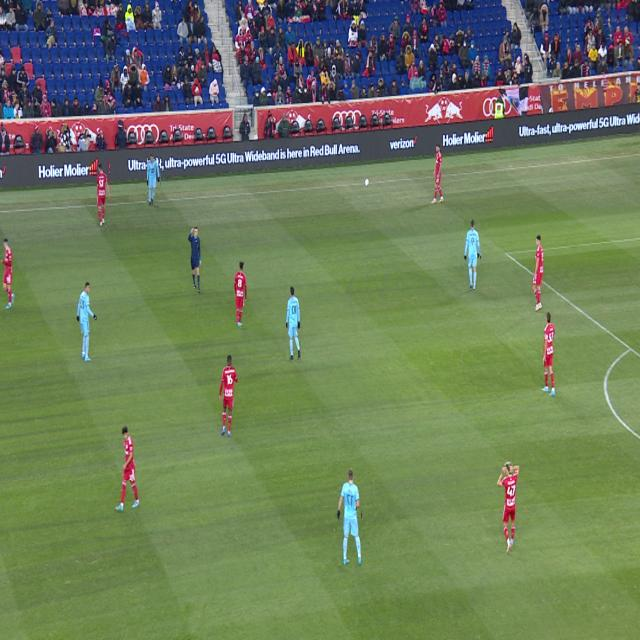football: (365, 179, 369, 187)
player: (338, 468, 361, 566), (497, 462, 520, 553), (115, 426, 139, 511), (77, 282, 97, 361), (219, 355, 238, 437), (541, 312, 555, 396), (286, 287, 301, 360), (465, 219, 480, 290), (1, 238, 15, 308), (234, 262, 247, 328), (97, 164, 110, 226), (533, 236, 543, 311), (431, 143, 443, 203), (147, 155, 160, 206)
referee: (188, 227, 201, 292)
